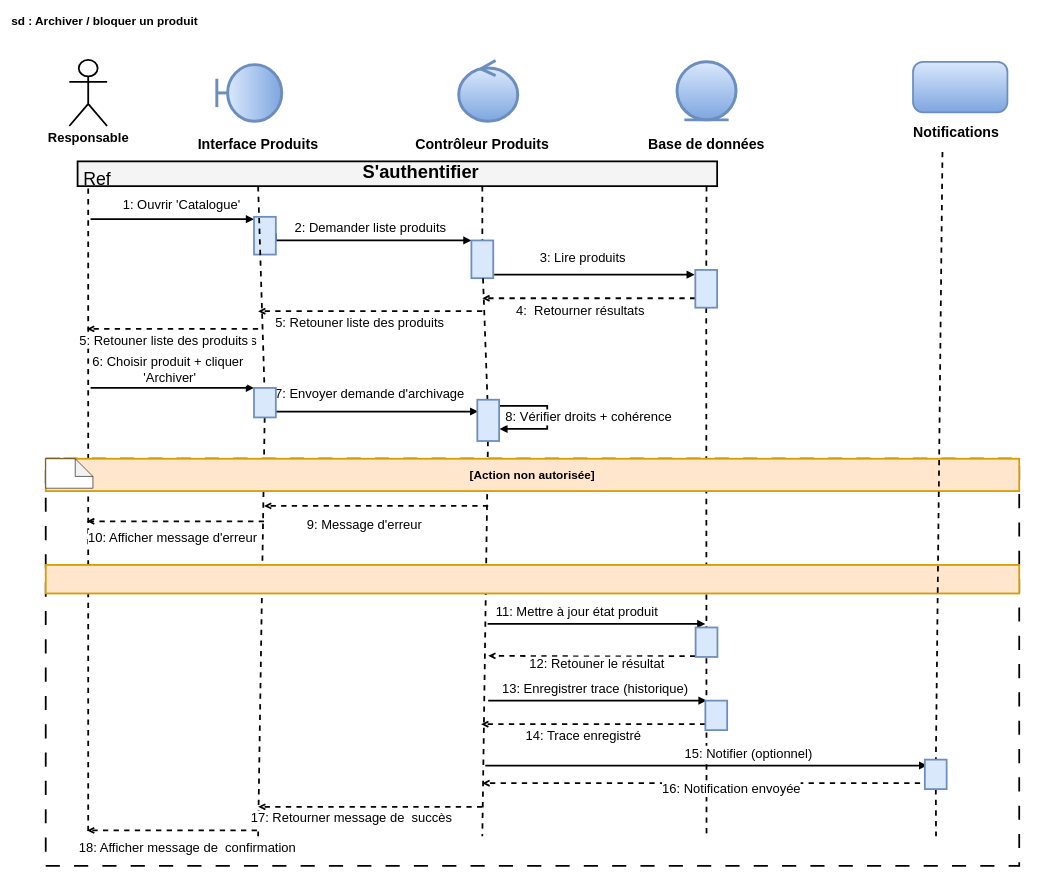
Image size: 1053x877. Some labels were removed from this diagram. The centre of each missing label's shape, as x and y in pixels:
"[Action autorisée]" goes at pixel 532 579.
"Alt" goes at pixel 69 473.
